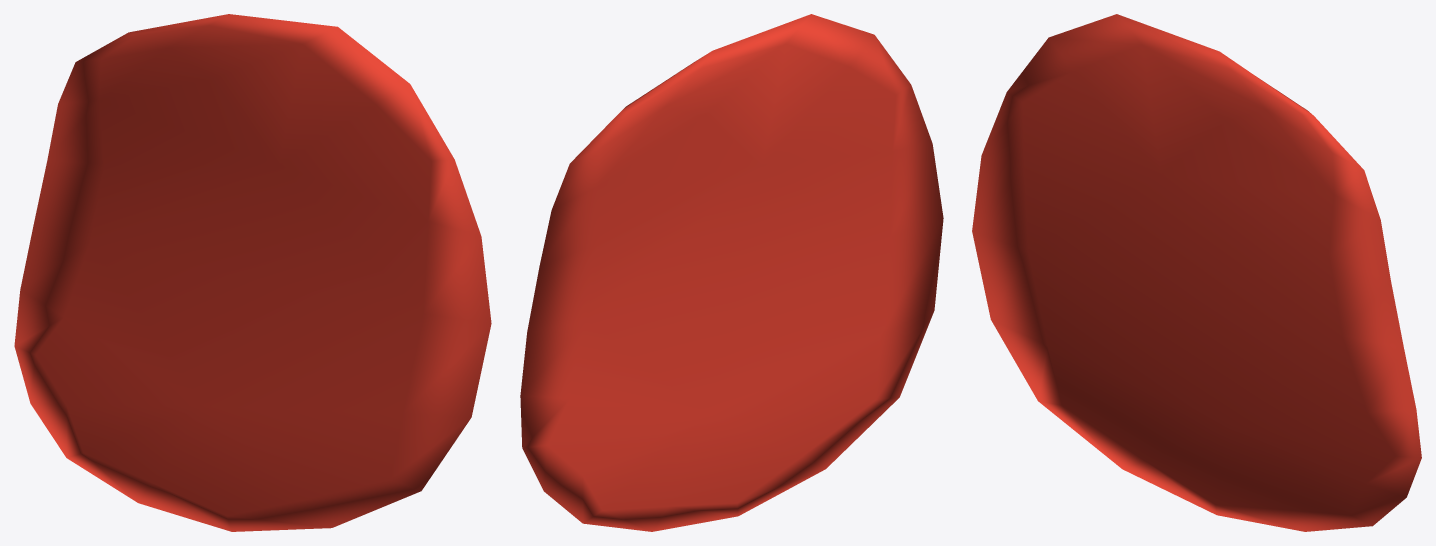
The model's file is Zygomaticus_major_muscle_on_zygomtic_bone.l_Generated_Mesh_From.glb.
3 views of the same model, side by side, from view 1: azimuth 90°, elevation 25°; view 2: azimuth 150°, elevation 25°; view 3: azimuth 270°, elevation 25° (orthographic). The views are drawn at different scales.
Visible parts, largest first — view 1: Zygomaticus_major_muscle_on_zygomtic_bone.l_Generated_Mesh_F; view 2: Zygomaticus_major_muscle_on_zygomtic_bone.l_Generated_Mesh_F; view 3: Zygomaticus_major_muscle_on_zygomtic_bone.l_Generated_Mesh_F.
Part boxes in pixels (x1=…): Zygomaticus_major_muscle_on_zygomtic_bone.l_Generated_Mesh_F: x1=14, y1=14, x2=491, y2=531; Zygomaticus_major_muscle_on_zygomtic_bone.l_Generated_Mesh_F: x1=520, y1=14, x2=943, y2=531; Zygomaticus_major_muscle_on_zygomtic_bone.l_Generated_Mesh_F: x1=972, y1=14, x2=1421, y2=531.
Size of the model in its own units: 0.00514 by 0.0112 by 0.00931.
